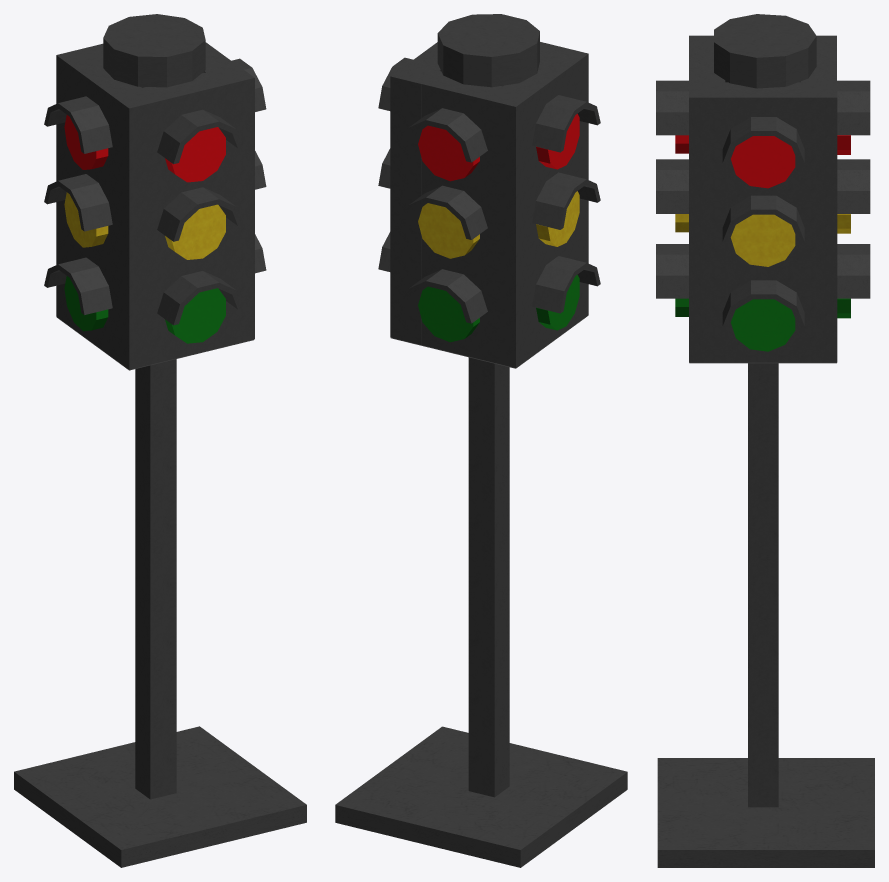
File: result.dae
The picture shows the model from 3 angles, left to right: view 1: azimuth 30°, elevation 25°; view 2: azimuth 150°, elevation 25°; view 3: azimuth 270°, elevation 25°; orthographic projection.
Visible parts, largest first — view 1: Cylinder018_16, Cylinder041_11, Cylinder016_18, Cylinder015_19, Cylinder052_0, Cylinder040_12, Cylinder037_15, Cylinder039_13, Cylinder038_14, Cylinder050_2, Cylinder051_1, Cylinder013_21 (+3 smaller); view 2: Cylinder018_16, Cylinder046_6, Cylinder016_18, Cylinder051_1, Cylinder015_19, Cylinder052_0, Cylinder045_7, Cylinder043_9, Cylinder044_8, Cylinder042_10, Cylinder050_2, Cylinder013_21 (+3 smaller); view 3: Cylinder018_16, Cylinder041_11, Cylinder046_6, Cylinder051_1, Cylinder052_0, Cylinder045_7, Cylinder040_12, Cylinder050_2, Cylinder048_4, Cylinder047_5, Cylinder049_3, Cylinder016_18.
Part boxes in pixels (x1,y1,x2,y2): Cylinder018_16: (14, 359, 306, 867); Cylinder041_11: (113, 65, 254, 369); Cylinder016_18: (56, 48, 253, 370); Cylinder015_19: (44, 96, 112, 314); Cylinder052_0: (103, 14, 205, 87); Cylinder040_12: (157, 109, 243, 325); Cylinder037_15: (165, 288, 225, 343); Cylinder039_13: (165, 127, 225, 182); Cylinder038_14: (165, 204, 225, 259); Cylinder050_2: (231, 58, 266, 273); Cylinder051_1: (204, 42, 253, 84); Cylinder013_21: (64, 192, 108, 247); Cylinder018_16: (335, 357, 627, 867); Cylinder046_6: (390, 63, 532, 367); Cylinder016_18: (391, 49, 588, 368); Cylinder051_1: (390, 42, 440, 344); Cylinder015_19: (532, 95, 600, 313); Cylinder052_0: (437, 14, 539, 87); Cylinder045_7: (402, 108, 487, 323); Cylinder043_9: (418, 203, 479, 258); Cylinder044_8: (418, 125, 479, 181); Cylinder042_10: (418, 286, 479, 342); Cylinder050_2: (378, 57, 412, 271); Cylinder013_21: (536, 191, 579, 246); Cylinder018_16: (657, 363, 874, 867); Cylinder041_11: (689, 35, 725, 362); Cylinder046_6: (801, 35, 836, 362); Cylinder051_1: (690, 82, 837, 362); Cylinder052_0: (714, 14, 816, 88); Cylinder045_7: (837, 80, 870, 298); Cylinder040_12: (656, 80, 688, 298); Cylinder050_2: (722, 117, 804, 326); Cylinder048_4: (730, 214, 795, 266); Cylinder047_5: (730, 299, 795, 351); Cylinder049_3: (731, 136, 795, 188); Cylinder016_18: (689, 35, 836, 363).
Bounding box in the file's own units: 6.83 × 26.44 × 6.7.
5 materials, 4 textured.
